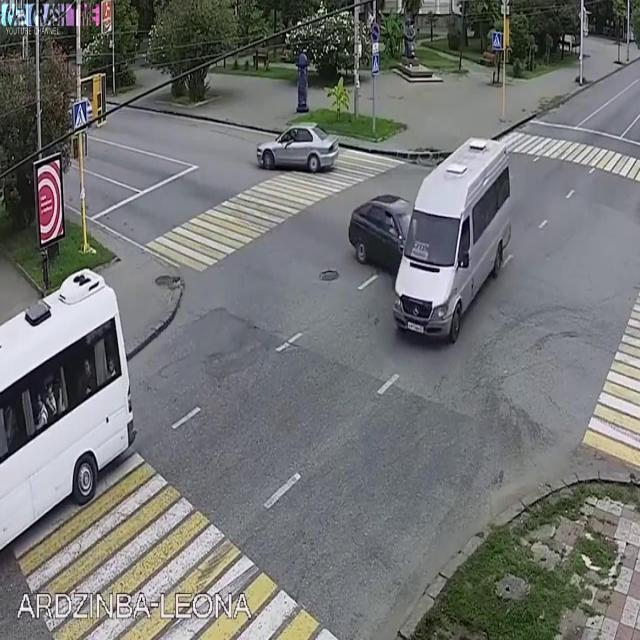accident: (344, 125, 520, 355)
